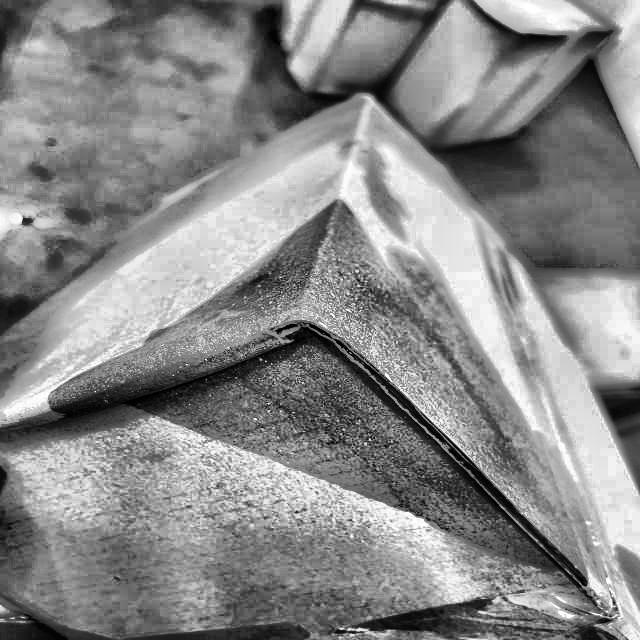box: (1, 88, 639, 639)
wet: (150, 206, 595, 576)
